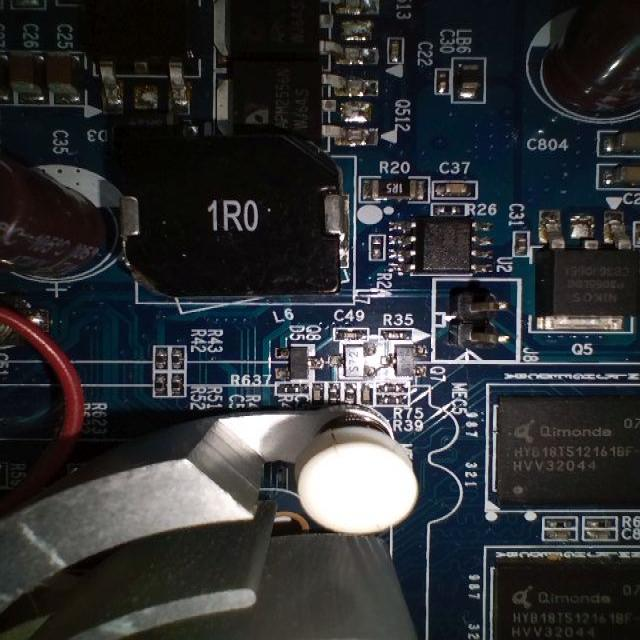capacitor: (433, 170, 483, 205), (384, 26, 415, 79), (332, 323, 381, 351), (428, 56, 453, 105)
resistor: (150, 340, 170, 375), (168, 366, 188, 399)
